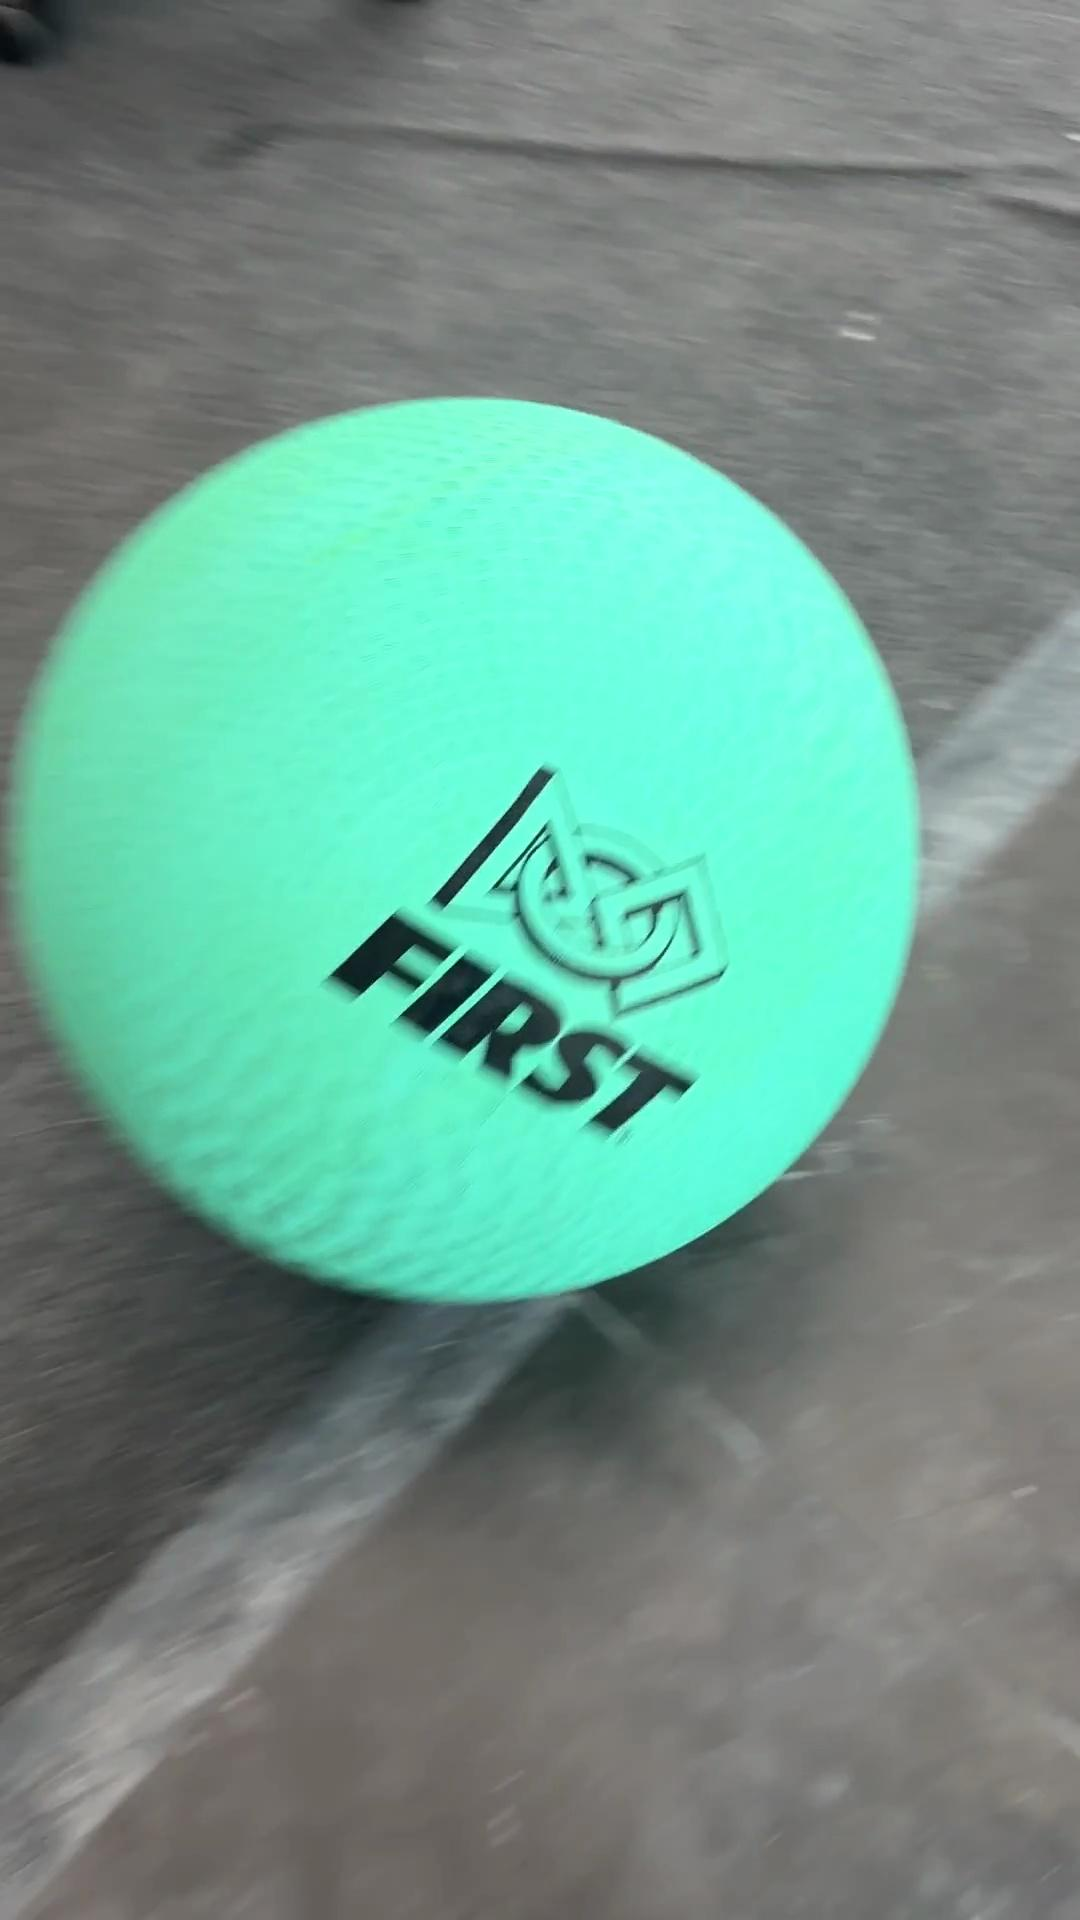ALGAE: (7, 392, 923, 1308)
